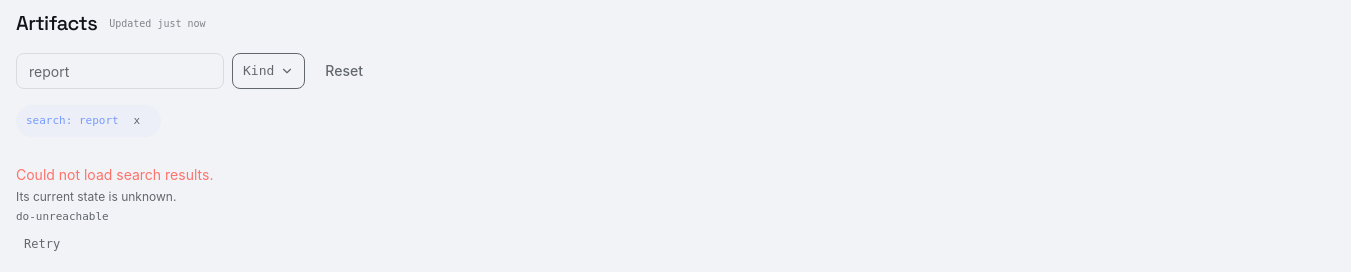
Test: ArtifactsPage search › a failed search is an error with retry instead of searching forever
The width and height of the screenshot is (1351, 272).
Expected: the message shows "Could not load search results.", [16,166,213,256]
Click the button "Retry" at (42, 244), box [16,232,68,256]
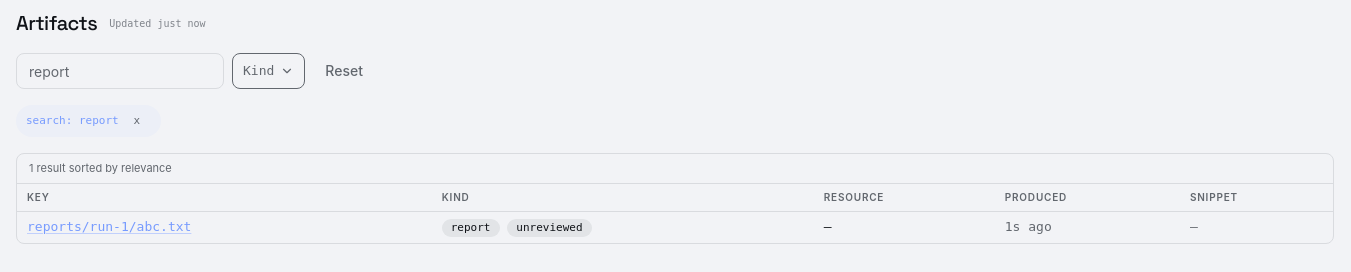
Result: the link "reports/run-1/abc.txt" is shown at [27,219,191,234]
